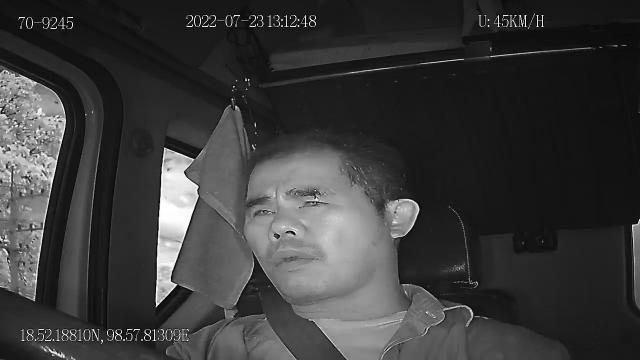SafeDriving: (290, 187, 334, 214), (246, 198, 282, 222)
Seatbelt: (258, 284, 349, 360)
